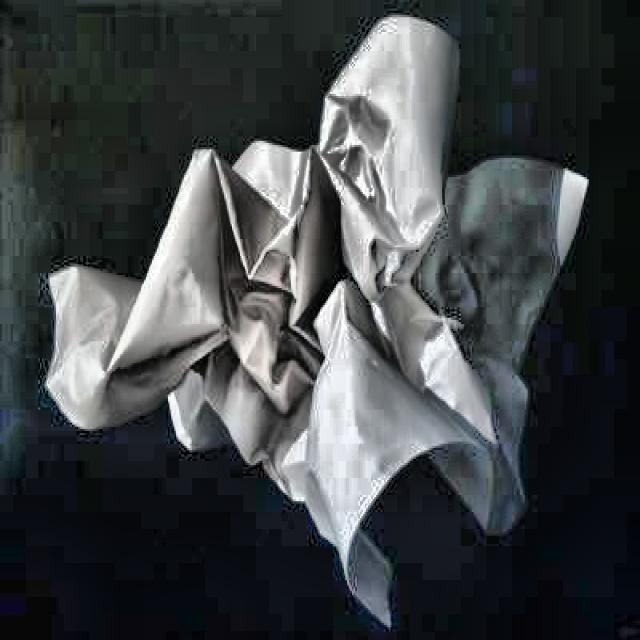Paper: (34, 0, 595, 637)
